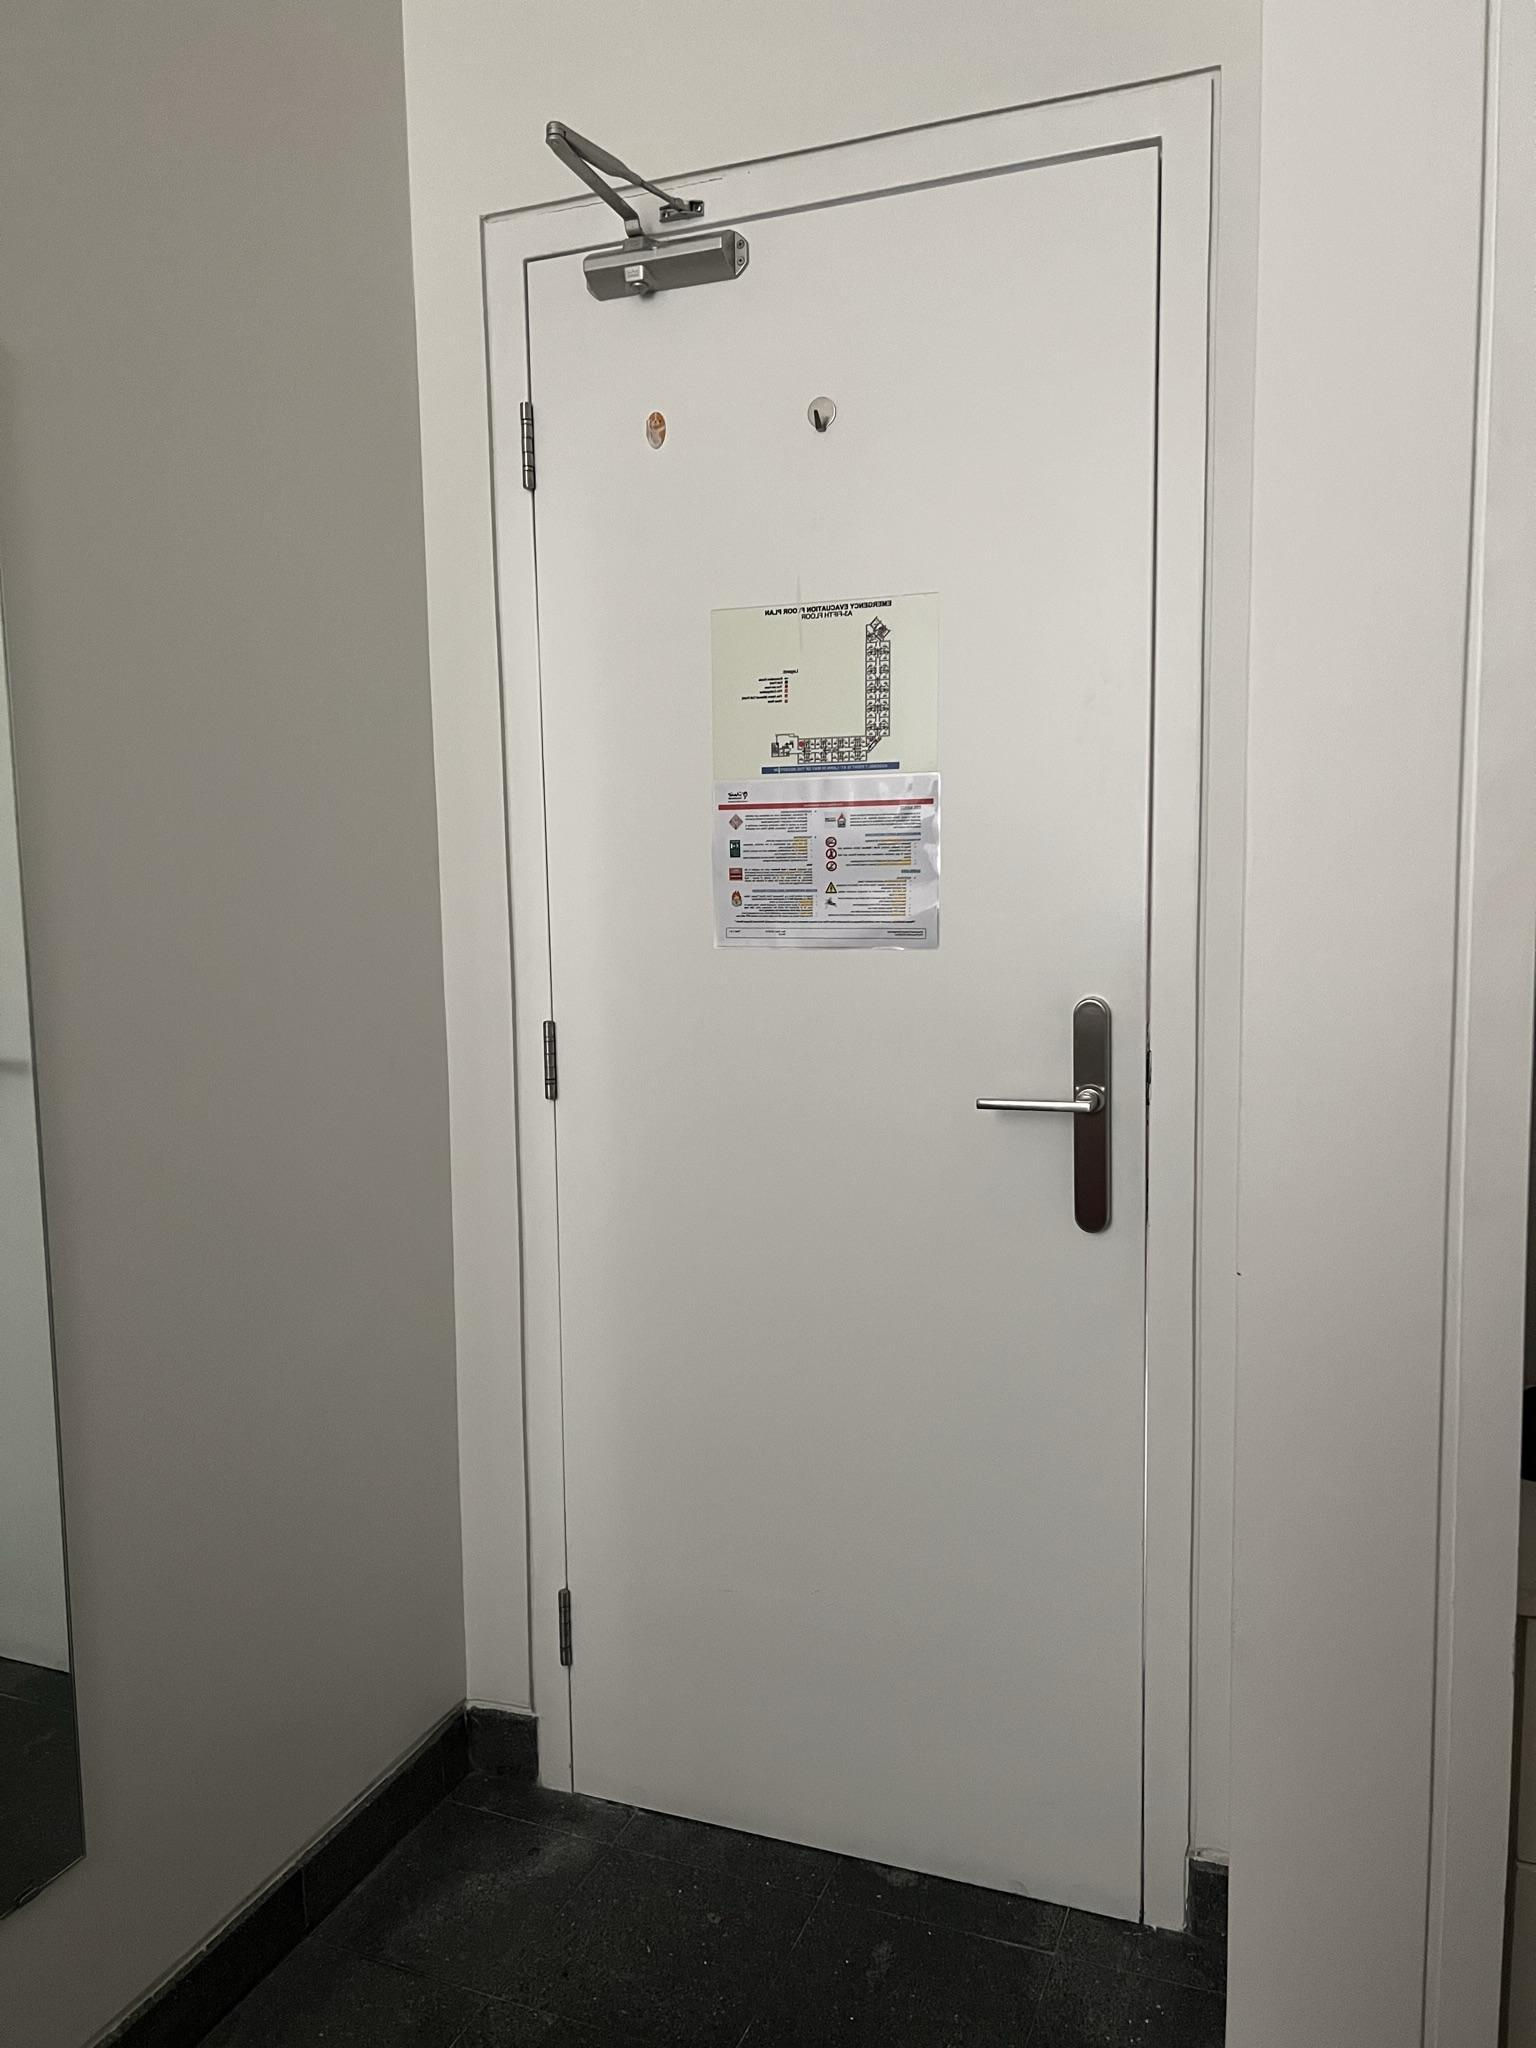door: (547, 121, 1158, 1908)
handle: (976, 993, 1118, 1238)
